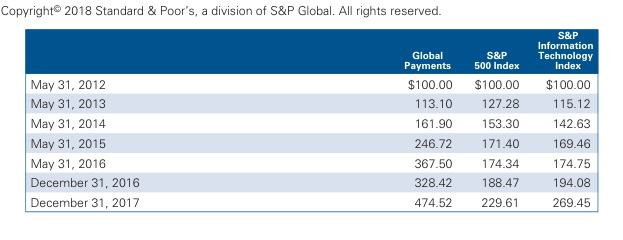table: (29, 29, 592, 209)
table column: (29, 29, 270, 209), (270, 29, 462, 209), (462, 29, 527, 209), (527, 29, 592, 209)
table column header: (29, 29, 592, 73)
table row: (29, 29, 592, 73), (29, 73, 592, 93), (29, 112, 592, 132), (29, 132, 592, 152), (29, 152, 592, 172), (29, 93, 592, 112), (29, 172, 592, 191), (29, 191, 592, 209)
